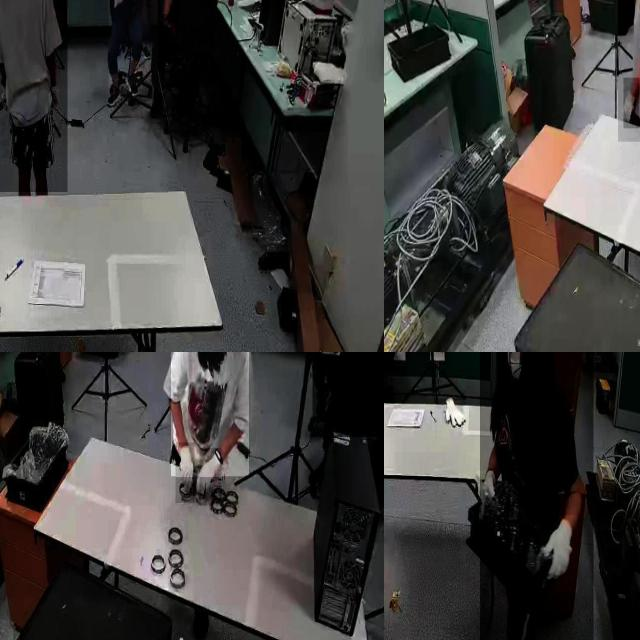face_mask: (504, 352, 526, 382)
hand_glove: (540, 515, 578, 593), (200, 448, 222, 506), (175, 442, 195, 504), (477, 471, 499, 513), (623, 77, 640, 129)
hand_noglove: (162, 14, 180, 36)
person: (480, 352, 594, 640), (0, 0, 67, 193), (170, 352, 249, 477), (312, 352, 384, 438), (108, 0, 157, 104), (617, 0, 640, 142), (167, 0, 226, 46)
shoes: (123, 64, 140, 98)
